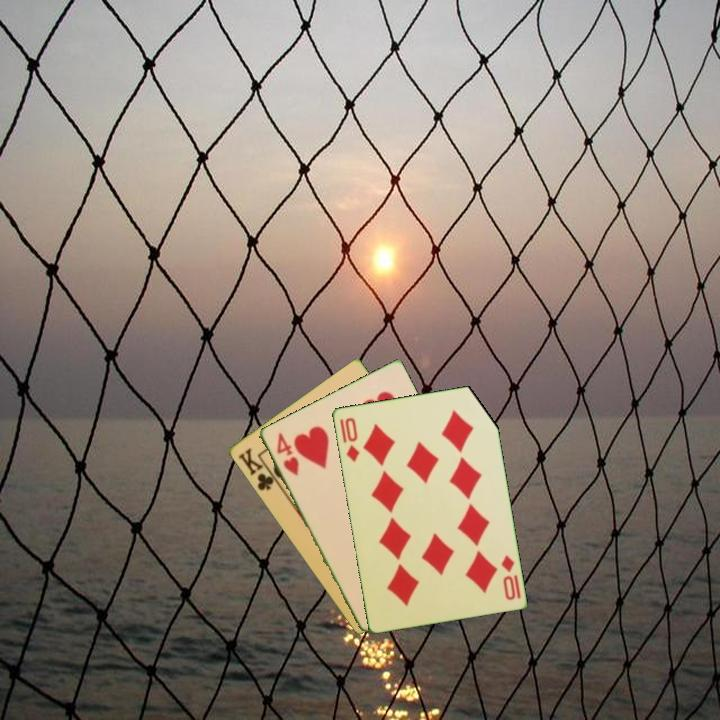10d: (497, 551, 518, 603), (341, 414, 362, 465)
4h: (273, 429, 302, 478)
Kc: (234, 444, 281, 494)
